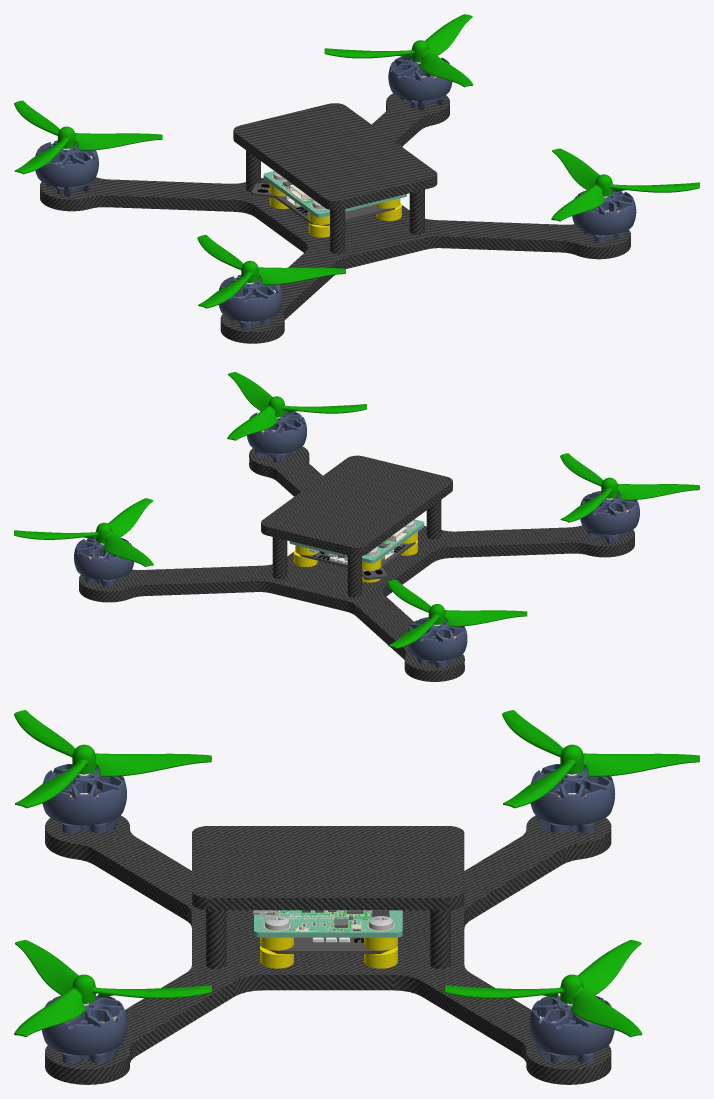
File: drone.glb
3 renders of one model, top to bottom at view 1: azimuth 30°, elevation 25°; view 2: azimuth 150°, elevation 25°; view 3: azimuth 270°, elevation 25°, orthographic. The views are drawn at different scales.
Visible parts, largest first — view 1: Frame, Prop 2, Prop 4, Prop 3, Prop 1, Spacers, FCU PCB, ESC PCB; view 2: Frame, Prop 4, Prop 2, Prop 1, Prop 3, FCU PCB, ESC PCB, Spacers; view 3: Frame, Prop 4, Prop 2, Prop 3, Prop 1, FCU PCB, Spacers, ESC PCB.
Part boxes in pixels (bbox=[...]): Frame: bbox=[40, 93, 630, 343]; Prop 2: bbox=[197, 234, 345, 321]; Prop 4: bbox=[14, 100, 162, 187]; Prop 3: bbox=[324, 14, 473, 100]; Prop 1: bbox=[551, 148, 699, 234]; Spacers: bbox=[269, 183, 401, 237]; FCU PCB: bbox=[263, 171, 406, 217]; ESC PCB: bbox=[251, 183, 395, 225]; Frame: bbox=[79, 446, 634, 681]; Prop 4: bbox=[387, 579, 527, 660]; Prop 2: bbox=[560, 453, 699, 534]; Prop 1: bbox=[227, 372, 366, 453]; Prop 3: bbox=[14, 498, 153, 579]; FCU PCB: bbox=[289, 519, 424, 563]; ESC PCB: bbox=[299, 542, 415, 580]; Spacers: bbox=[293, 532, 417, 582]; Frame: bbox=[45, 815, 611, 1084]; Prop 4: bbox=[502, 710, 699, 825]; Prop 2: bbox=[14, 710, 211, 825]; Prop 3: bbox=[444, 940, 642, 1055]; Prop 1: bbox=[14, 940, 211, 1055]; FCU PCB: bbox=[253, 910, 402, 937]; Spacers: bbox=[260, 937, 397, 968]; ESC PCB: bbox=[262, 937, 396, 953].
Bounding box in the file's own units: 22.64 × 3.03 × 20.14.
35 materials, 1 textured.
